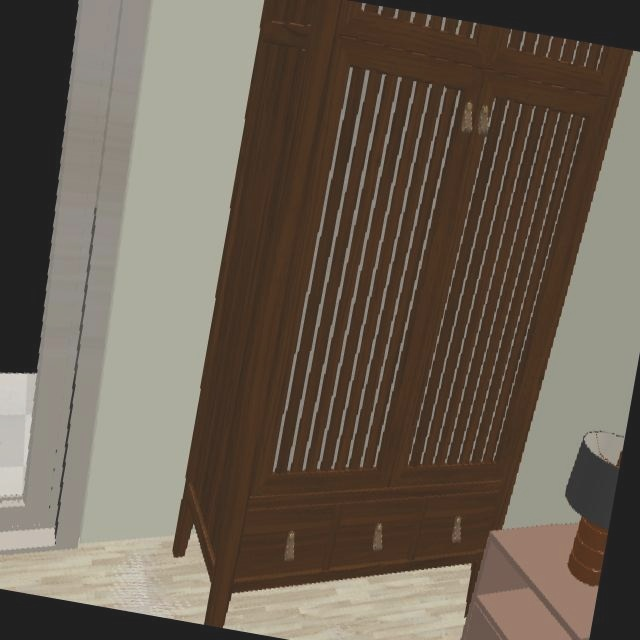lamp: (564, 433, 624, 589)
nighttable: (461, 522, 598, 640)
wardrobe: (174, 0, 634, 627)
